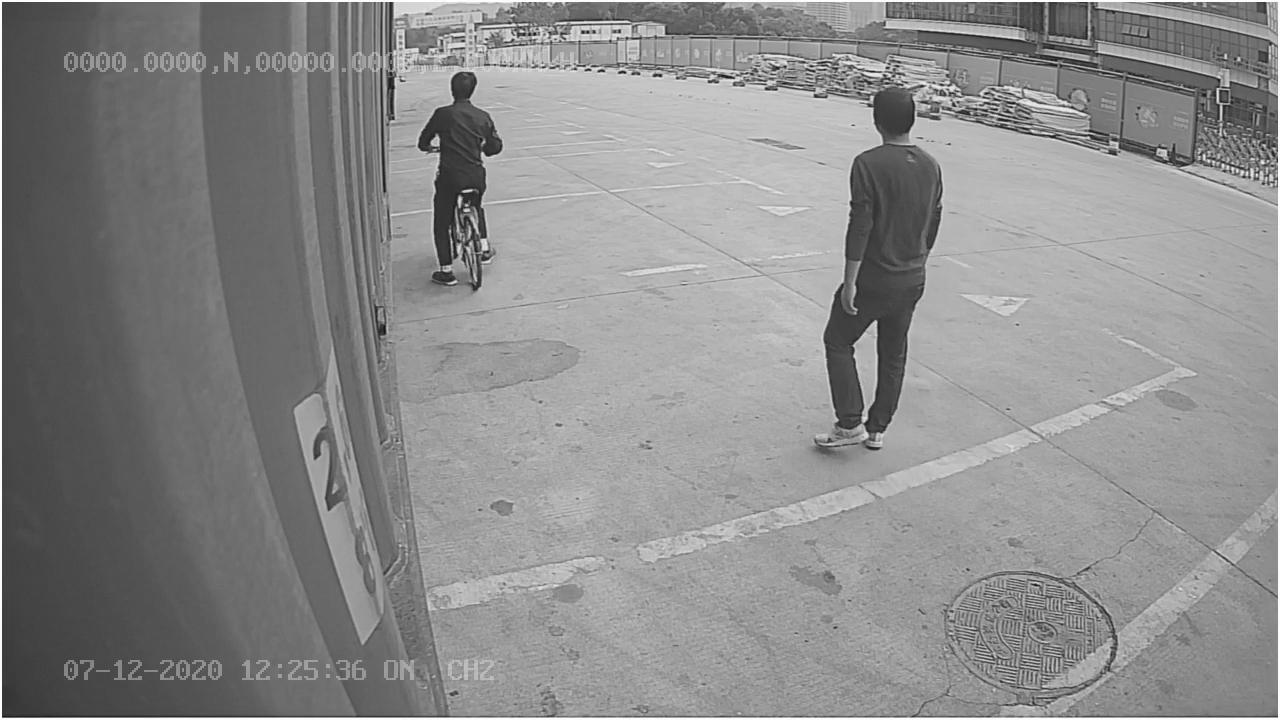person: (807, 78, 949, 464)
